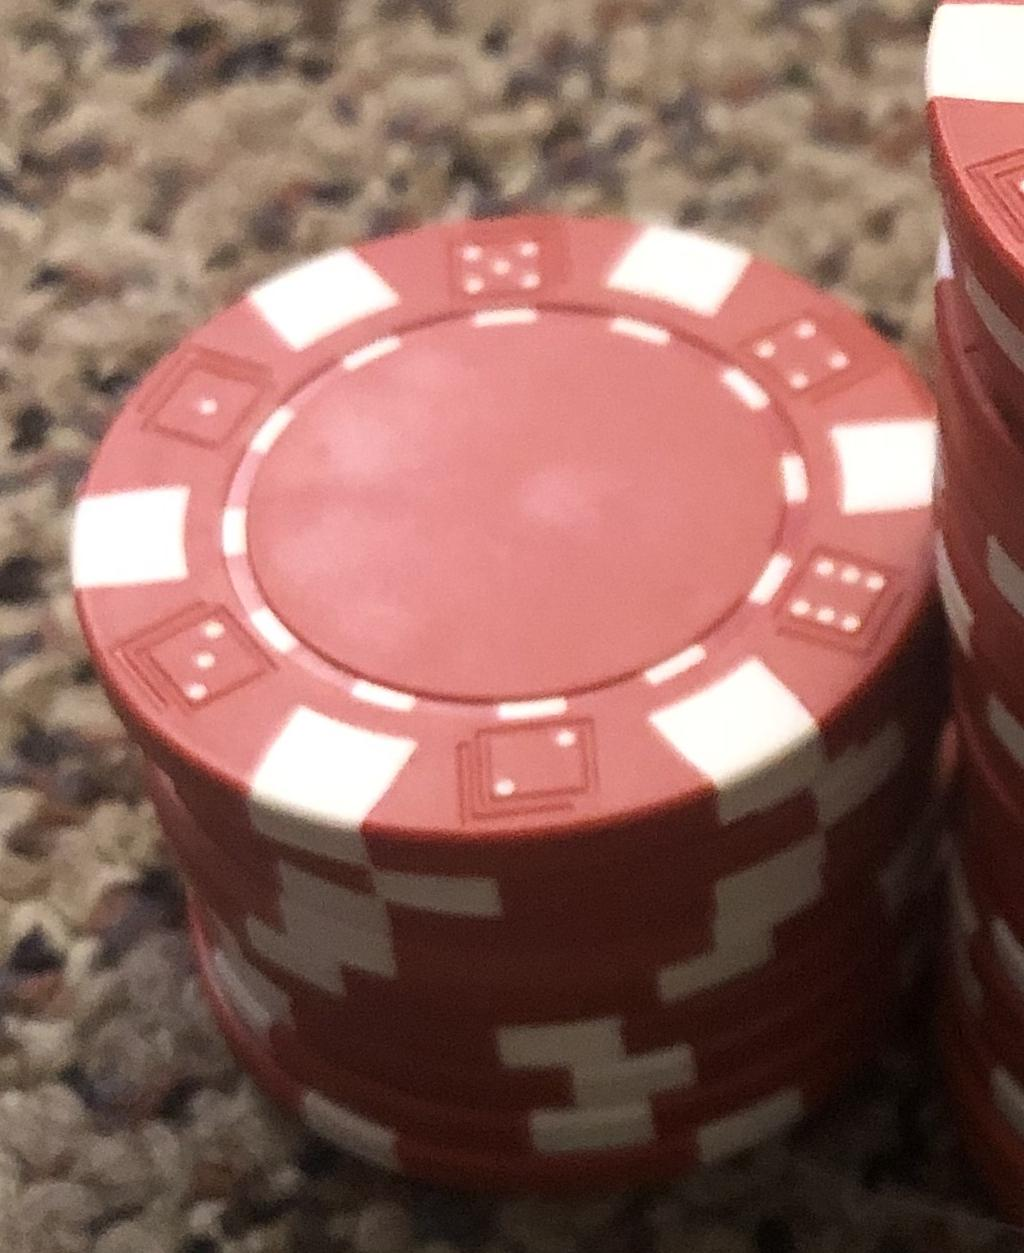Chip: (1, 1, 1024, 1253)
